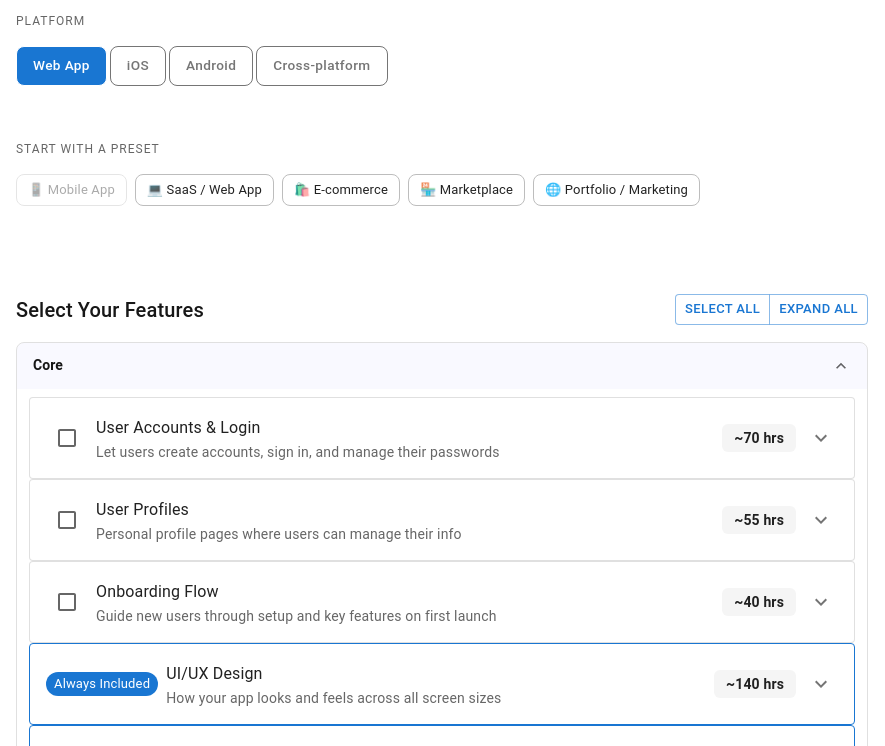
it: CostEstimator › handleExpandAll / handleCollapseAll › clicking 'Collapse All' switches button back to 'Expand All'
Click the button "Expand All".
click(819, 310)  # box x1=769 y1=294 x2=868 y2=325
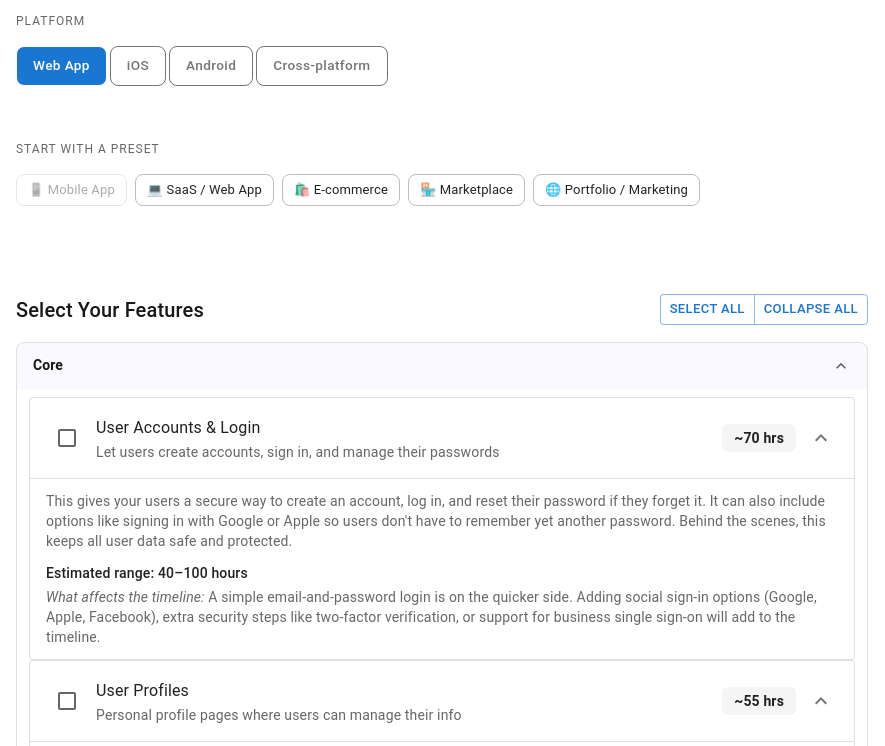
Click the button "Collapse All".
click(811, 310)  # box x1=754 y1=294 x2=868 y2=325
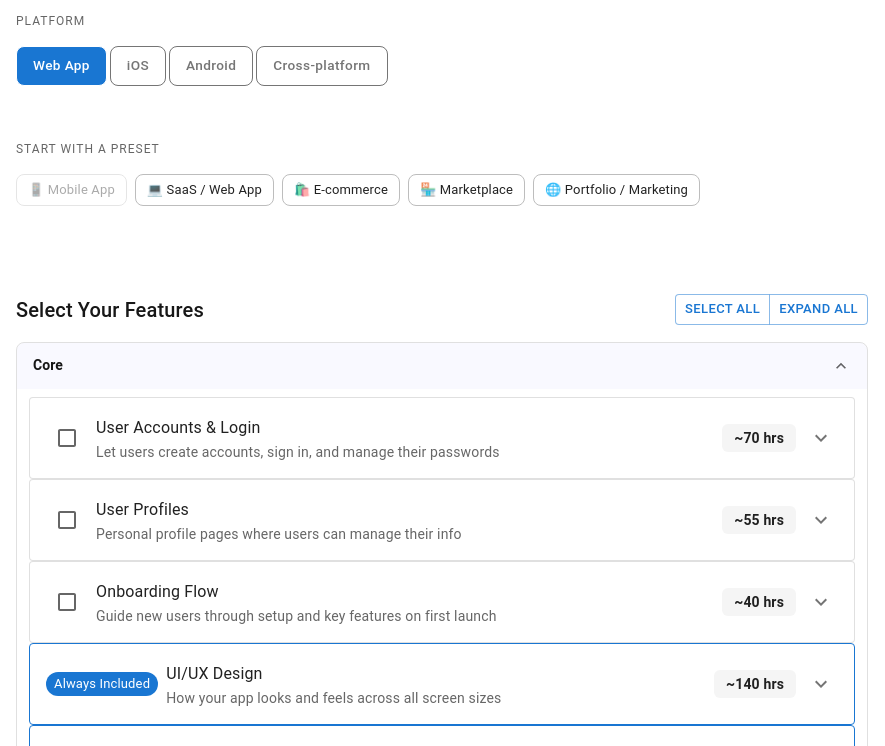
Now the button "Expand All" is shown, box x1=769 y1=294 x2=868 y2=325
